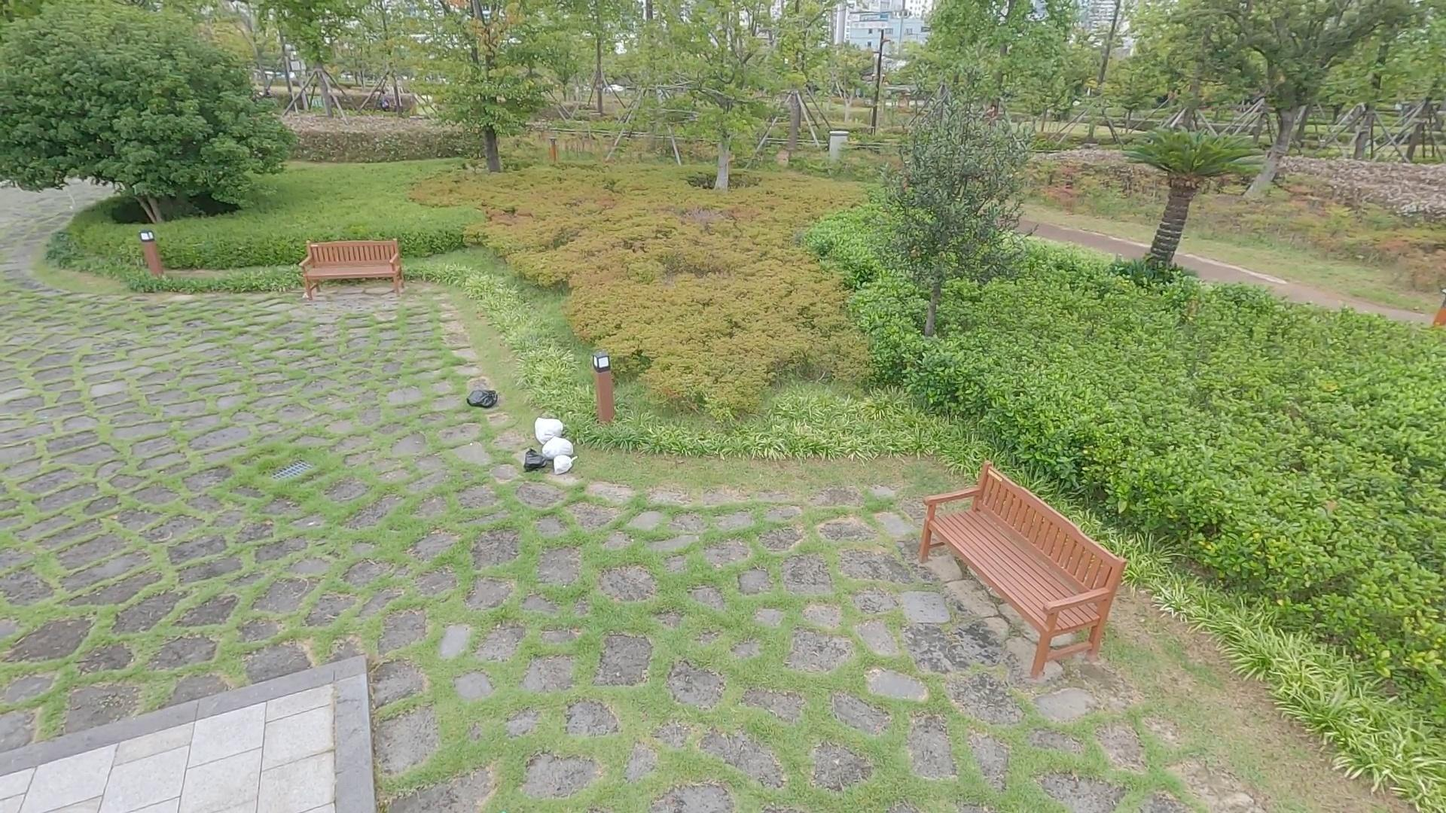trash: (532, 415, 566, 446), (542, 436, 574, 460), (520, 445, 548, 471), (467, 388, 498, 410), (552, 453, 582, 474)
